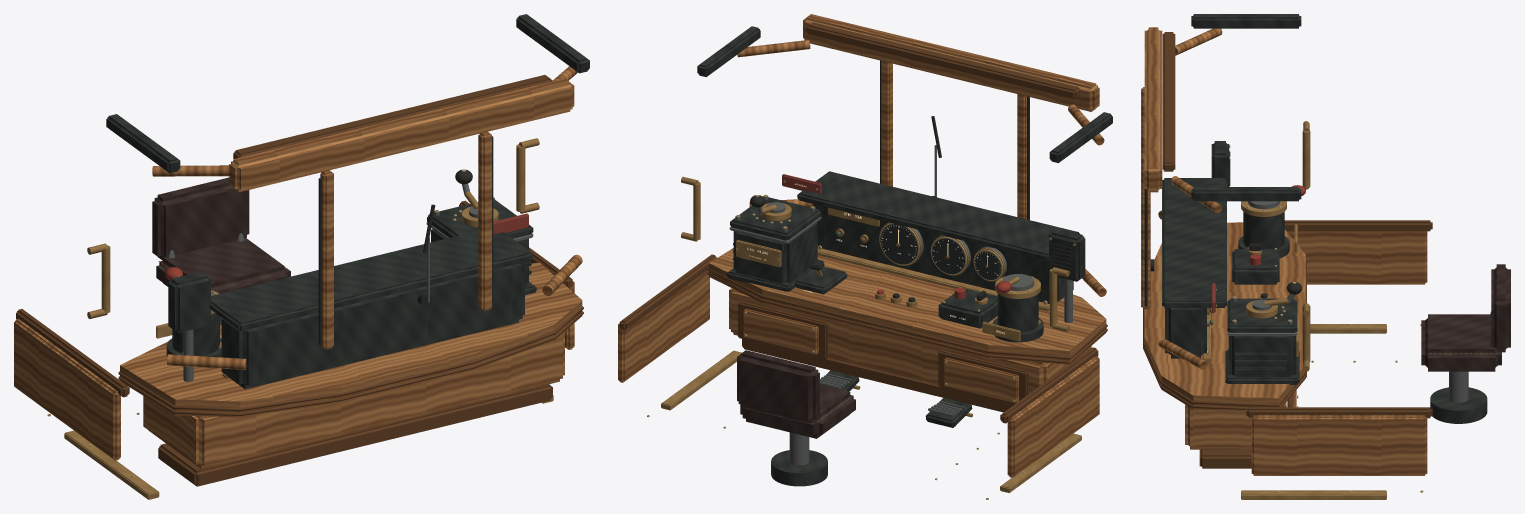
The model's file is driver_cab.glb.
3 renders of one model, left to right at view 1: azimuth 30°, elevation 25°; view 2: azimuth 150°, elevation 25°; view 3: azimuth 270°, elevation 25°, orthographic. The views are drawn at different scales.
Parts seen in each view (by area): view 1: Cassa strumenti in ghisa, Piano sagomato in quercia, Faccia del banco, Traversa frontale in quercia, Visiera strumenti, Boiserie laterale, Zoccolo del banco, Schienale, Sedile cucito, Guida antiriflesso, Colonna in legno del parabrezza.001, Custodia campanello (+14 smaller); view 2: Piano sagomato in quercia, Visiera strumenti, Faccia del banco, Boiserie laterale, Traversa frontale in quercia, Cassa strumenti in ghisa, Schienale, Boiserie laterale.001, Guida antiriflesso, Zoccolo del banco, Custodia del controllore, Sedile cucito (+29 smaller); view 3: Boiserie laterale.001, Piano sagomato in quercia, Visiera strumenti, Boiserie laterale, Sedile cucito, Traversa frontale in quercia, Faccia del banco, Custodia del controllore, Guida antiriflesso, Coperchio imbullonato, Cassa strumenti in ghisa, Modanatura laterale in noce (+22 smaller).
Boxes of the visible parts, x1,y1,x2,y2 form: Cassa strumenti in ghisa: (221, 262, 524, 389); Piano sagomato in quercia: (120, 262, 582, 417); Faccia del banco: (143, 331, 564, 468); Traversa frontale in quercia: (229, 78, 574, 192); Visiera strumenti: (209, 231, 533, 331); Boiserie laterale: (14, 319, 120, 460); Zoccolo del banco: (158, 384, 552, 486); Schienale: (152, 177, 249, 260); Sedile cucito: (156, 238, 290, 293); Guida antiriflesso: (233, 75, 552, 158); Colonna in legno del parabrezza.001: (478, 131, 491, 311); Custodia campanello: (168, 271, 210, 333); Piano sagomato in quercia: (709, 245, 1106, 364); Visiera strumenti: (797, 171, 1079, 261); Faccia del banco: (729, 288, 1091, 393); Boiserie laterale: (1007, 356, 1099, 477); Traversa frontale in quercia: (803, 14, 1099, 111); Cassa strumenti in ghisa: (813, 204, 1073, 303); Schienale: (737, 350, 819, 423); Boiserie laterale.001: (618, 270, 709, 382); Guida antiriflesso: (806, 22, 1080, 98); Zoccolo del banco: (742, 339, 1013, 412); Custodia del controllore: (733, 223, 817, 283); Sedile cucito: (740, 385, 855, 438); Boiserie laterale.001: (1251, 415, 1427, 475); Piano sagomato in quercia: (1144, 222, 1305, 410); Visiera strumenti: (1162, 178, 1226, 307); Boiserie laterale: (1287, 231, 1427, 284); Sedile cucito: (1421, 314, 1501, 371); Traversa frontale in quercia: (1144, 27, 1162, 192); Faccia del banco: (1185, 402, 1286, 449); Custodia del controllore: (1228, 336, 1296, 376); Guida antiriflesso: (1162, 32, 1175, 171); Coperchio imbullonato: (1227, 298, 1297, 332); Cassa strumenti in ghisa: (1165, 308, 1206, 358); Modanatura laterale in noce: (1284, 220, 1432, 231).
Size of the model in its own units: 2.18 by 1.65 by 1.75.
16 materials, 4 textured.
